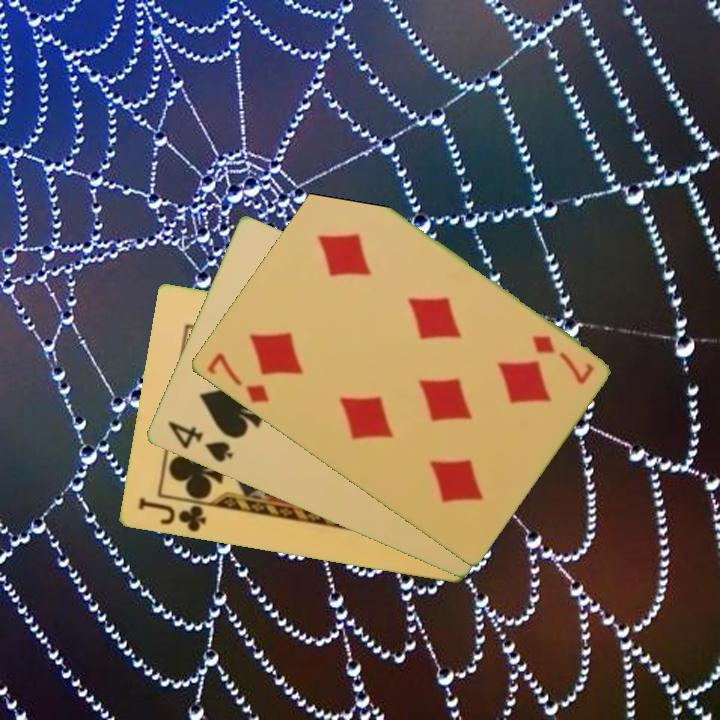4s: (163, 418, 236, 466)
7d: (203, 349, 272, 407), (528, 332, 597, 388)
Jc: (134, 494, 208, 535)
